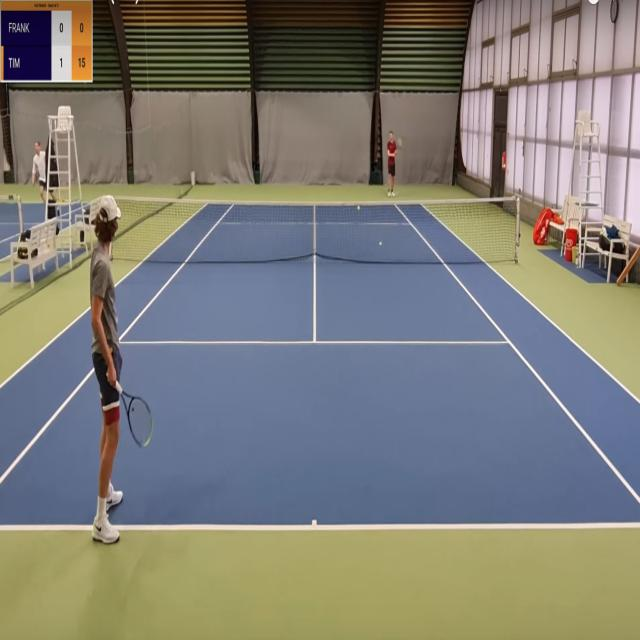ball: (357, 205, 360, 211), (379, 241, 382, 246)
